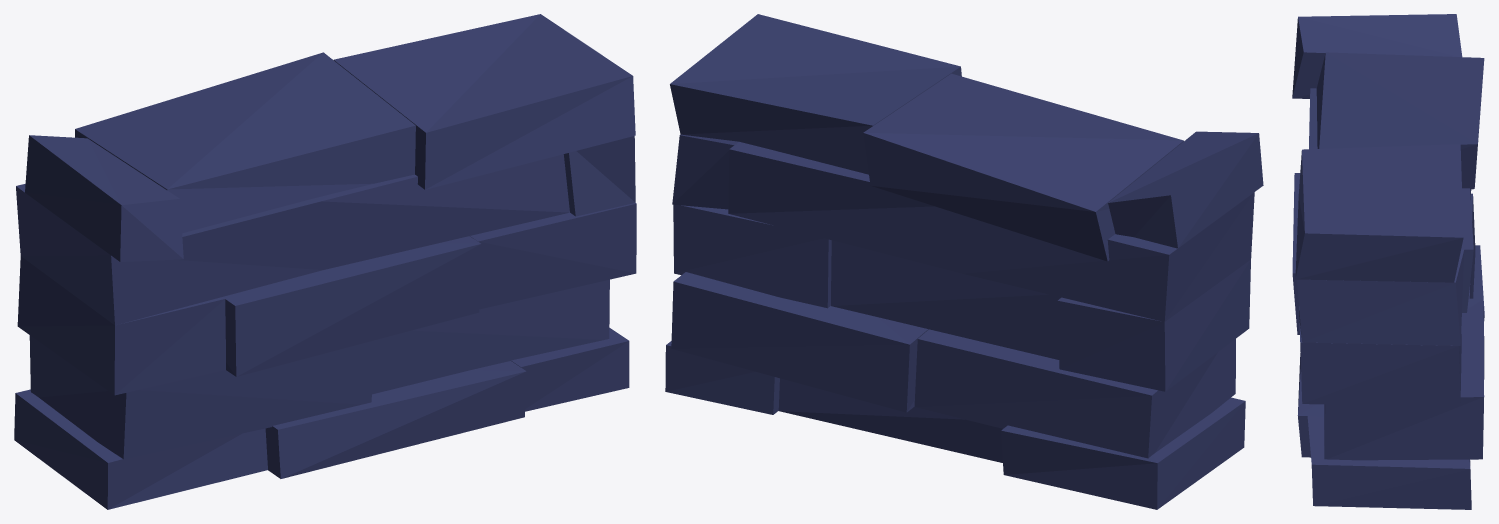
The model's file is Wall_S_Modular.FBX.
3 renders of one model, left to right at view 1: azimuth 30°, elevation 25°; view 2: azimuth 150°, elevation 25°; view 3: azimuth 270°, elevation 25°, orthographic. The views are drawn at different scales.
Parts seen in each view (by area): view 1: Group003; view 2: Group003; view 3: Group003.
Boxes of the visible parts, x1,y1,x2,y2 form: Group003: [14, 14, 636, 509]; Group003: [665, 14, 1263, 509]; Group003: [1292, 14, 1484, 509].
Bounding box in the file's own units: 40.61 × 23.96 × 14.99.
